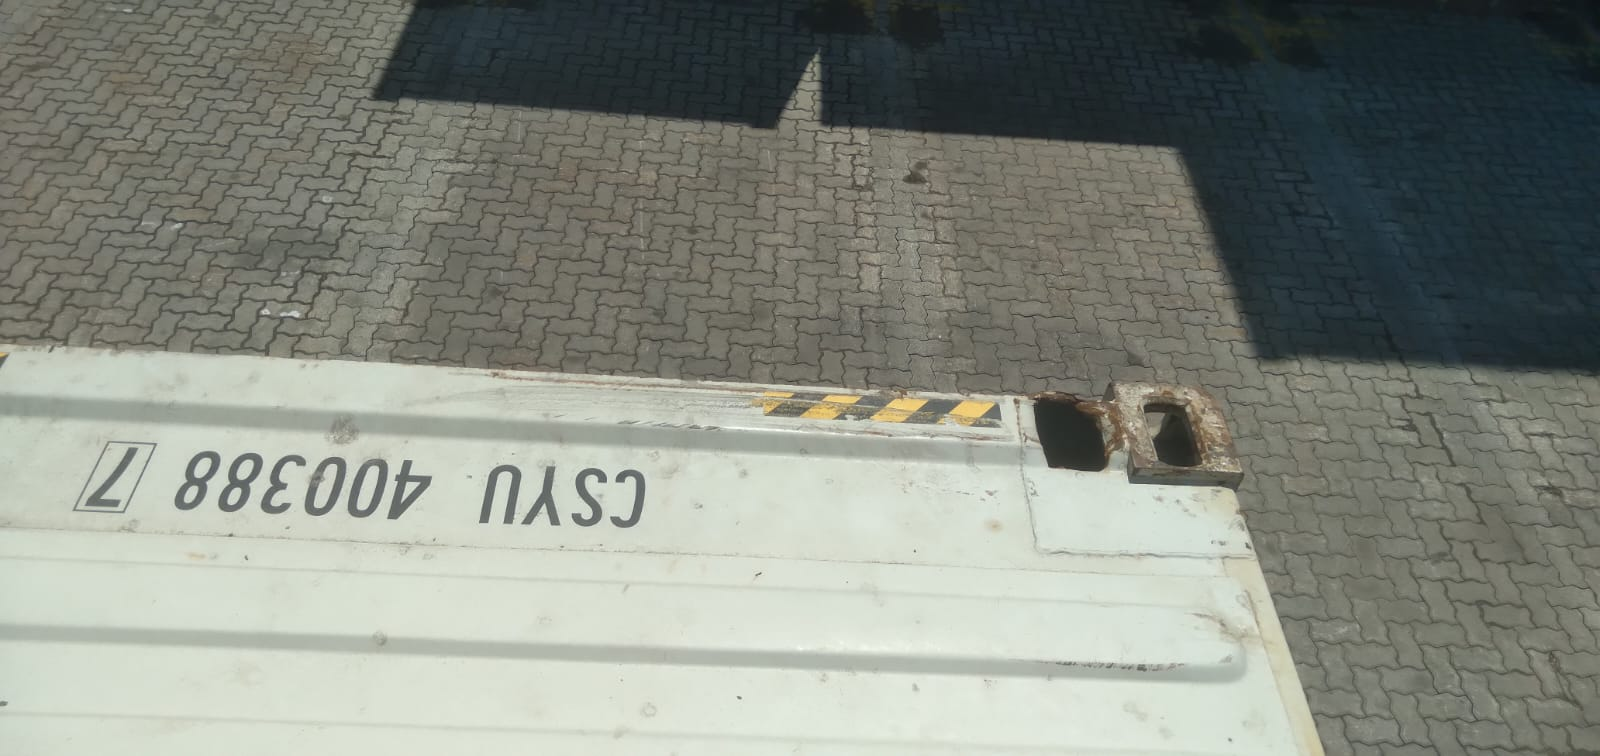hole: (1019, 397, 1116, 487)
